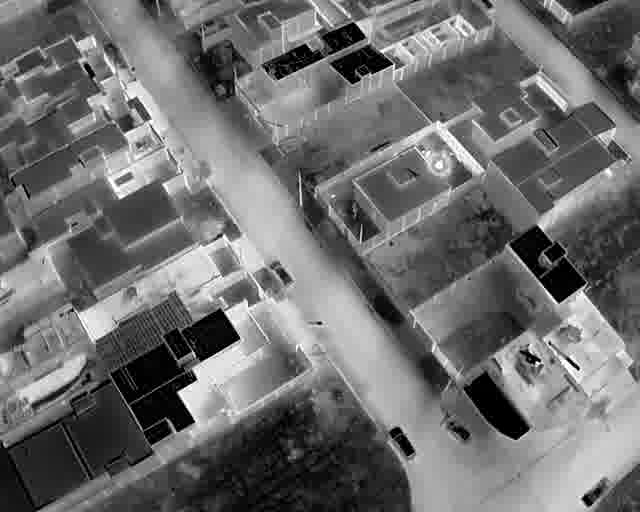car: (263, 255, 294, 288), (580, 476, 612, 507), (388, 426, 415, 460), (447, 421, 472, 444), (196, 19, 219, 37), (477, 0, 498, 12)
motorcycle: (306, 319, 324, 325)
